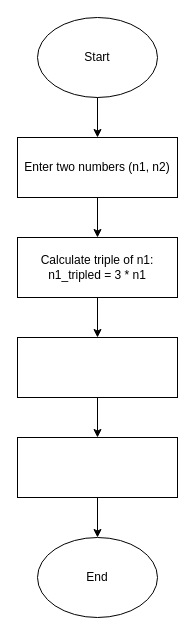
Some shapes in this 195 by 635 pixel diagram are drawn without their labels. The shapes that lost their labels are listed below. From the top down, each one's box as (x1, y1, x2, y2) in pixels, then its label:
(16, 336, 178, 398): Add n2 to the result: result = n1_tripled + n2
(16, 436, 178, 498): Output the result
